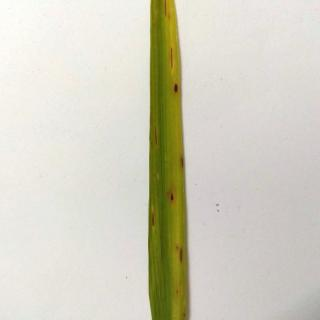bercak-Cokelat: (147, 205, 159, 235), (164, 186, 181, 206), (170, 80, 180, 104), (177, 153, 185, 169)
